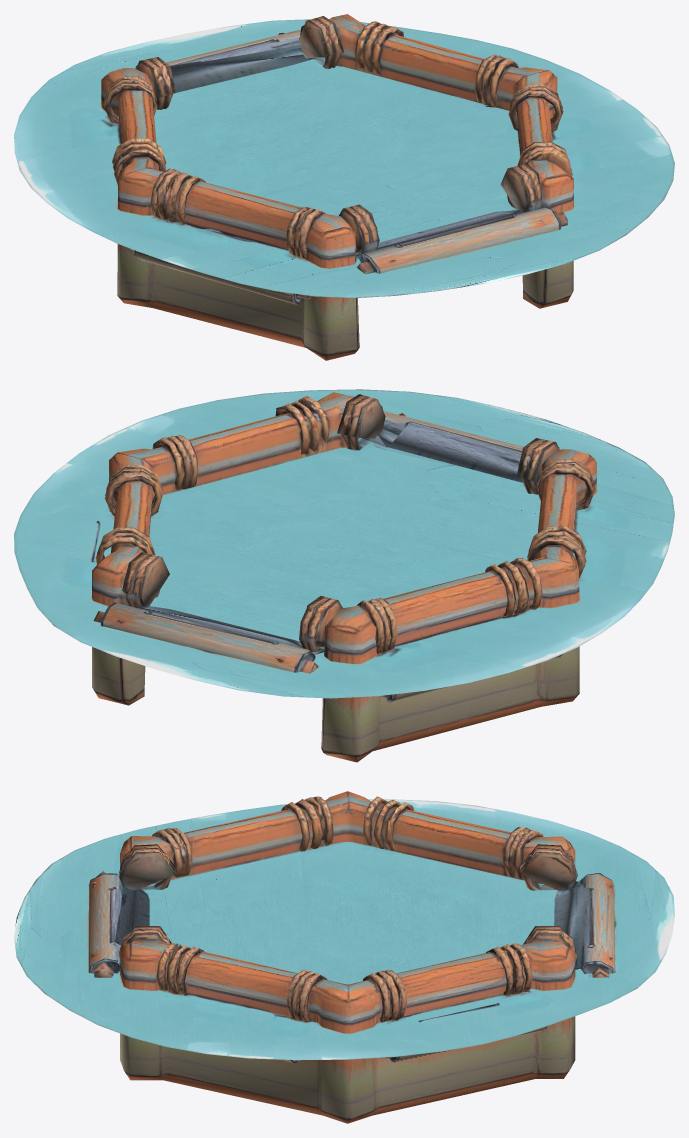
Rendered from 019e3fb3-80ba-7f23-8ccb-a1468957fbe1.glb.
3 renders of one model, top to bottom at view 1: azimuth 30°, elevation 25°; view 2: azimuth 150°, elevation 25°; view 3: azimuth 270°, elevation 25°, orthographic. The views are drawn at different scales.
Visible parts, largest first — view 1: tripo_node_76a7ada2-69d1-47dc-9dbb-251dd132ded8; view 2: tripo_node_76a7ada2-69d1-47dc-9dbb-251dd132ded8; view 3: tripo_node_76a7ada2-69d1-47dc-9dbb-251dd132ded8.
Boxes of the visible parts, x1,y1,x2,y2 form: tripo_node_76a7ada2-69d1-47dc-9dbb-251dd132ded8: (14, 14, 674, 360); tripo_node_76a7ada2-69d1-47dc-9dbb-251dd132ded8: (14, 389, 674, 762); tripo_node_76a7ada2-69d1-47dc-9dbb-251dd132ded8: (14, 791, 674, 1123).
Size of the model in its own units: 0.9316 by 0.2246 by 0.998.
1 material, 1 textured.
